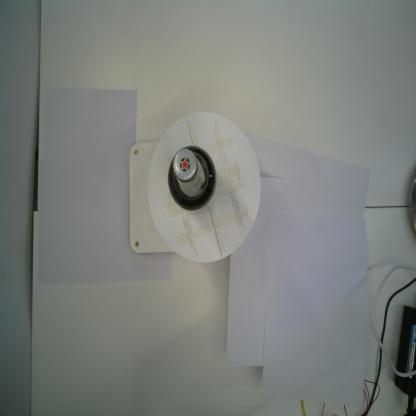Alcohol: (163, 143, 219, 215)
